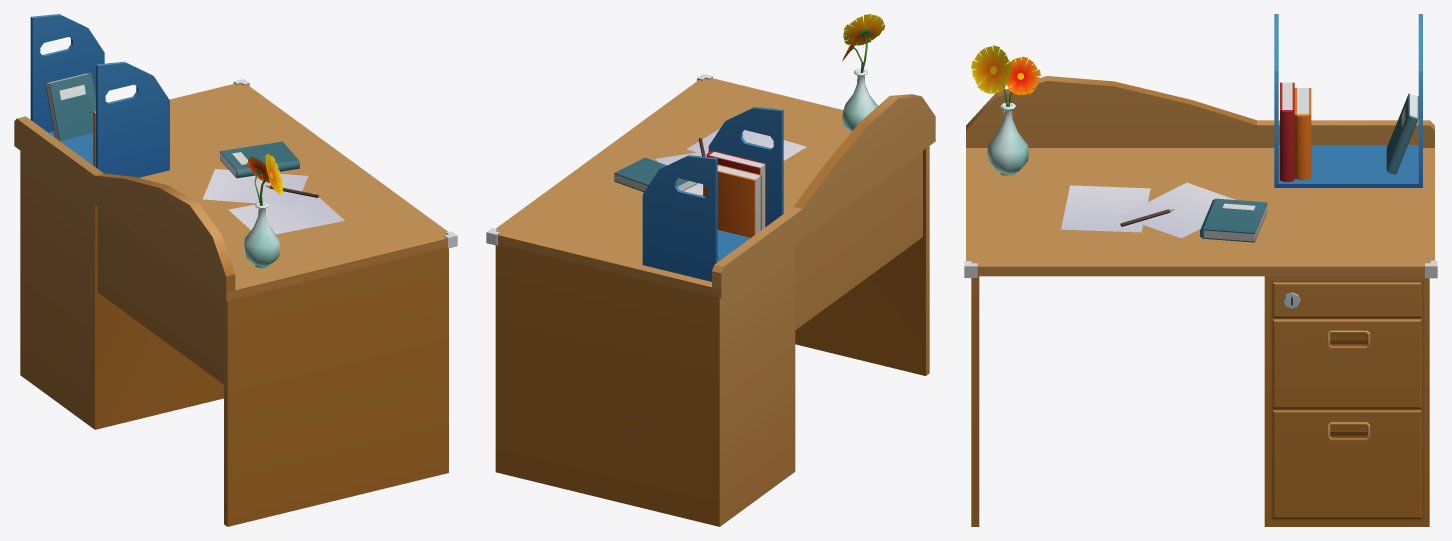
File: CR_TeacherDesk.FBX
3 renders of one model, left to right at view 1: azimuth 30°, elevation 25°; view 2: azimuth 150°, elevation 25°; view 3: azimuth 270°, elevation 25°, orthographic. The views are drawn at different scales.
Visible parts, largest first — view 1: CR_TDesk; view 2: CR_TDesk; view 3: CR_TDesk.
Part boxes in pixels (x1,y1,x2,y2): CR_TDesk: (14, 14, 457, 526); CR_TDesk: (486, 14, 935, 526); CR_TDesk: (964, 14, 1437, 526).
Bounding box in the file's own units: 70.7 × 105 × 113.
Materials: 1 (1 with a texture image).
